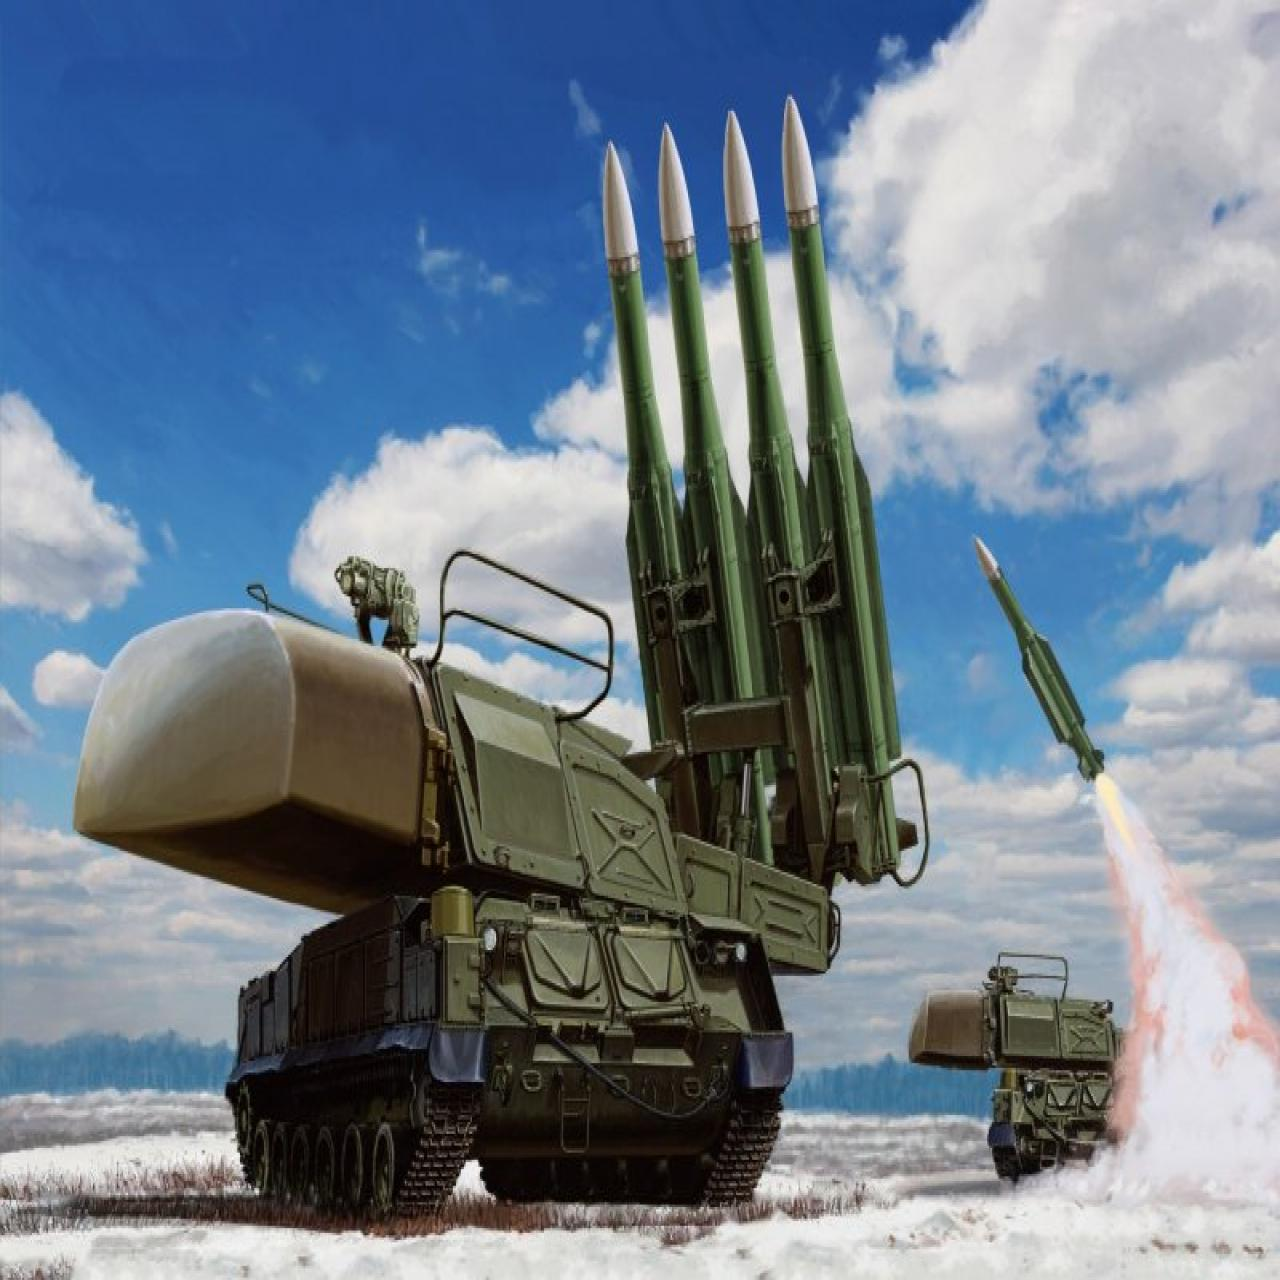MIL_Veh: (61, 95, 911, 1212)
